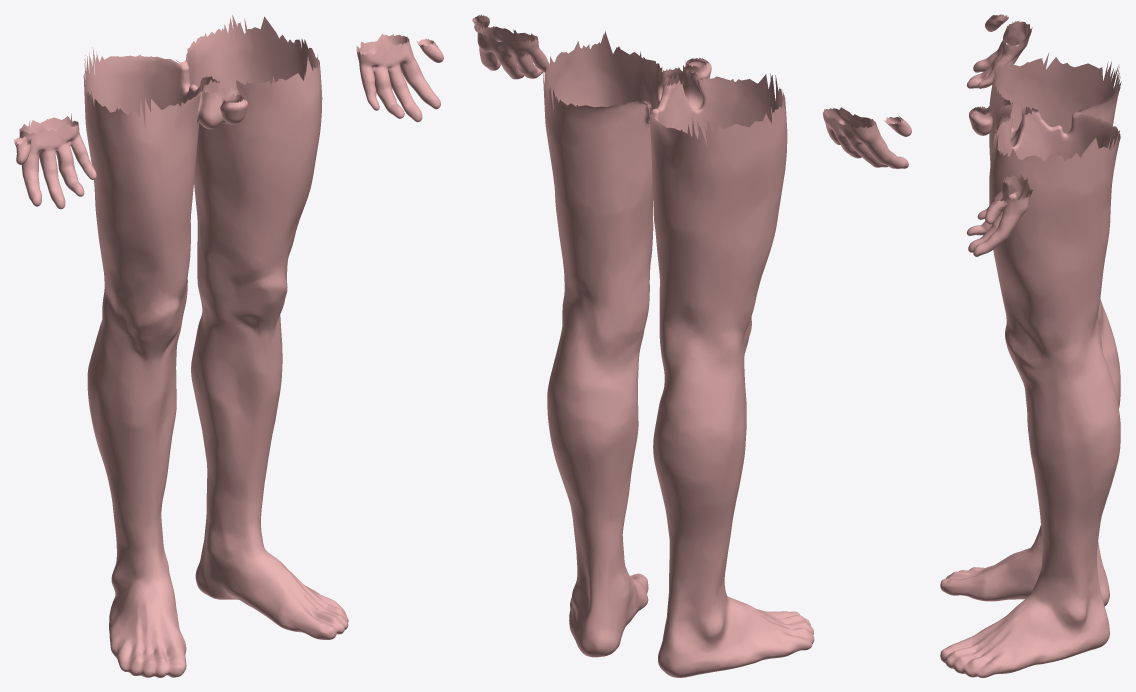
File: body-surface-lower.v1.glb
3 views of the same model, side by side, from view 1: azimuth 30°, elevation 25°; view 2: azimuth 150°, elevation 25°; view 3: azimuth 270°, elevation 25° (orthographic). The views are drawn at different scales.
Visible parts, largest first — view 1: skin_lower_body; view 2: skin_lower_body; view 3: skin_lower_body.
Boxes of the visible parts, x1,y1,x2,y2 form: skin_lower_body: (14,15,443,677); skin_lower_body: (472,14,911,677); skin_lower_body: (940,14,1121,677).
Size of the model in its own units: 0.6669 by 0.8454 by 0.2596.
